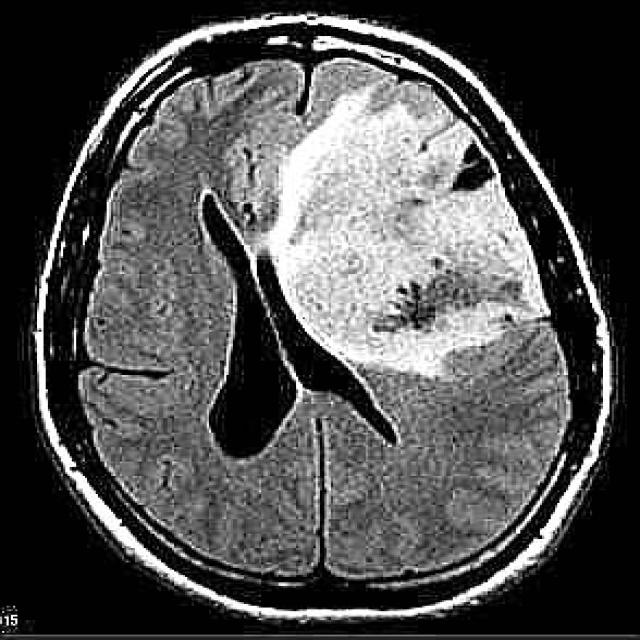Tumor-Cell: (250, 108, 533, 360)
